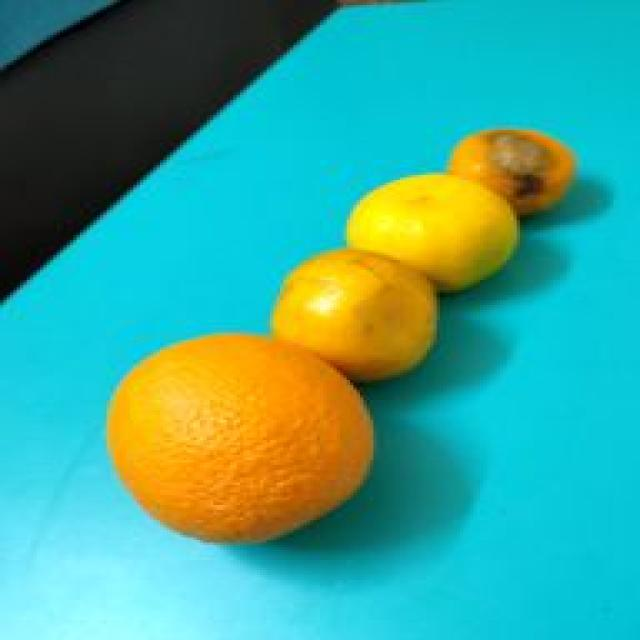Organik: (298, 147, 542, 305), (256, 245, 471, 378), (439, 113, 592, 211)
